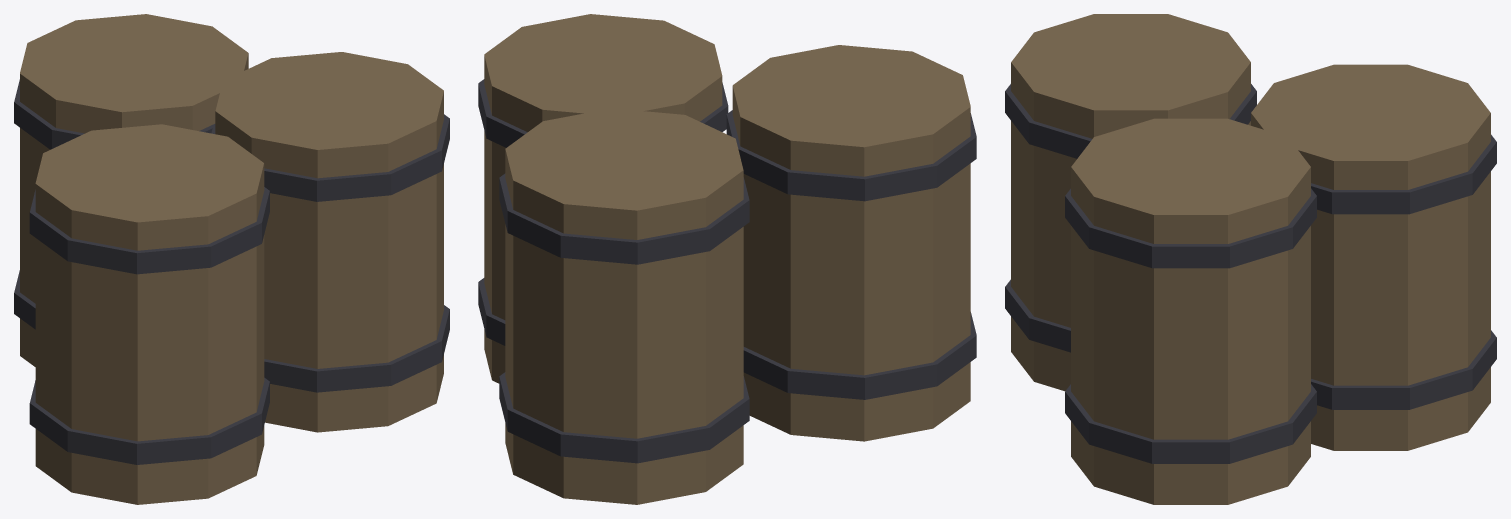
The model's file is barrels.glb.
The picture shows the model from 3 angles, left to right: view 1: azimuth 30°, elevation 25°; view 2: azimuth 150°, elevation 25°; view 3: azimuth 270°, elevation 25°; orthographic projection. The views are drawn at different scales.
Visible parts, largest first — view 1: barrels; view 2: barrels; view 3: barrels.
Boxes of the visible parts, x1,y1,x2,y2 form: barrels: (14,14,449,504); barrels: (478,14,976,504); barrels: (1005,14,1496,504).
Size of the model in its own units: 1.22 by 0.8 by 1.23.
